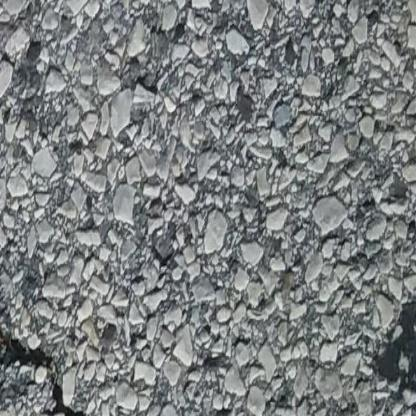Cracks: (0, 325, 108, 416)
